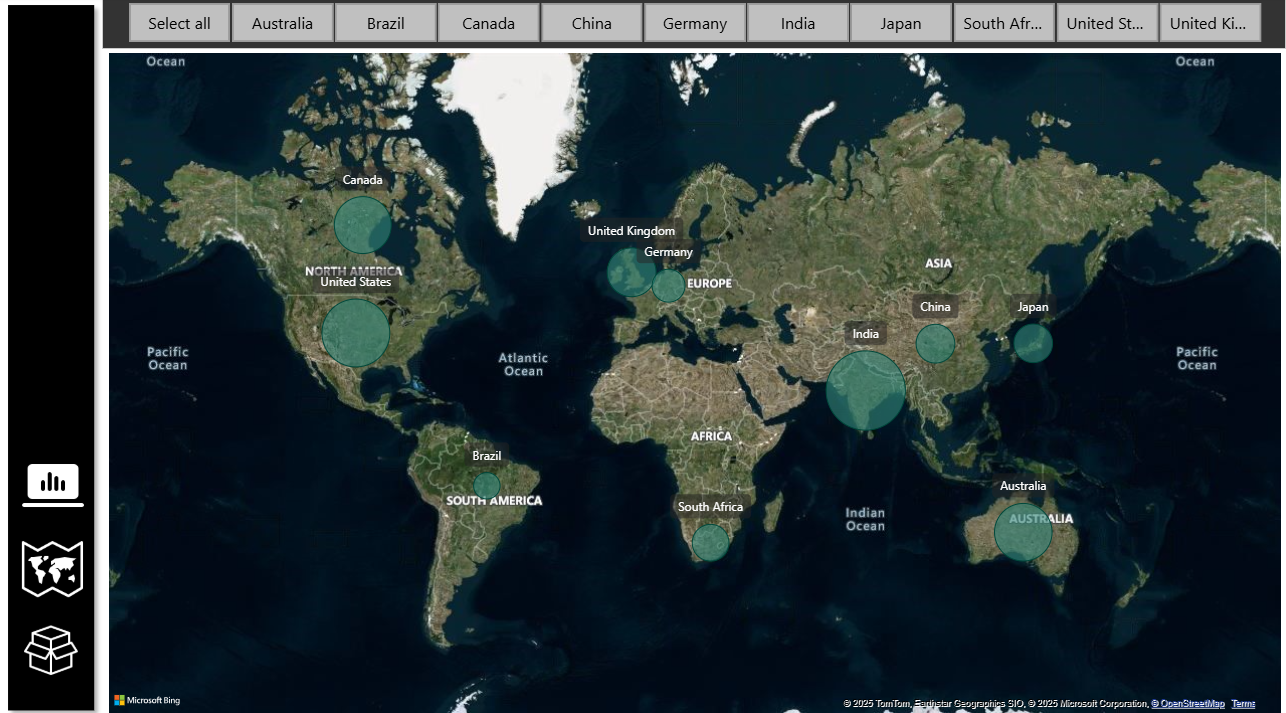

Layout of this report page (visuals, bound fields, positions):
{"tool":"powerbi","page":{"name":"Map Charts","canvas":[1280,720],"ordinal":1},"visuals":[{"type":"shape","title":"Filter Pane Shape","box":[0,0,66.5,720],"z":0},{"type":"map","fields":{"Category":["country.country"],"Size":["measures table.total revenue"]},"box":[66.8,53.2,1213.2,666.6],"z":1000},{"type":"slicer","fields":{"Values":["country.country"]},"box":[66.8,0,1205.9,53.2],"z":2000},{"type":"group","id":"g1","title":"Page Nav Icons","box":[0,528.6,67.3,181.1],"z":3000},{"type":"image","title":"Map Chart","box":[0,586,63.6,61.2],"z":30000,"group":"g1"},{"type":"image","title":"Product Chart","box":[0,643.6,64.9,66.1],"z":31000,"group":"g1"},{"type":"image","title":"Dashboard ceo","box":[0,528.6,67.3,67.3],"z":32000,"group":"g1"}]}

Visuals, with their boxes in screenshot pixels (x1, y1, x2, y2):
"Filter Pane Shape" shape: {"x1": 30, "y1": 0, "x2": 95, "y2": 697}
map - country.country x measures table.total revenue: {"x1": 95, "y1": 45, "x2": 1281, "y2": 697}
slicer - country.country: {"x1": 95, "y1": 0, "x2": 1274, "y2": 45}
"Page Nav Icons" group: {"x1": 30, "y1": 510, "x2": 96, "y2": 687}
"Map Chart" image: {"x1": 30, "y1": 566, "x2": 92, "y2": 626}
"Product Chart" image: {"x1": 30, "y1": 622, "x2": 93, "y2": 687}
"Dashboard ceo" image: {"x1": 30, "y1": 510, "x2": 96, "y2": 576}
